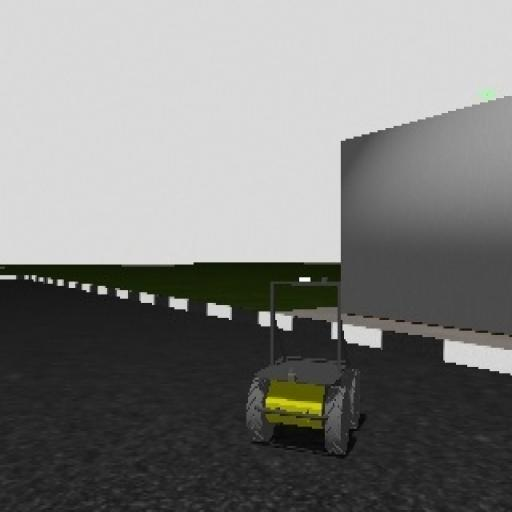huskya200: (223, 267, 371, 467)
